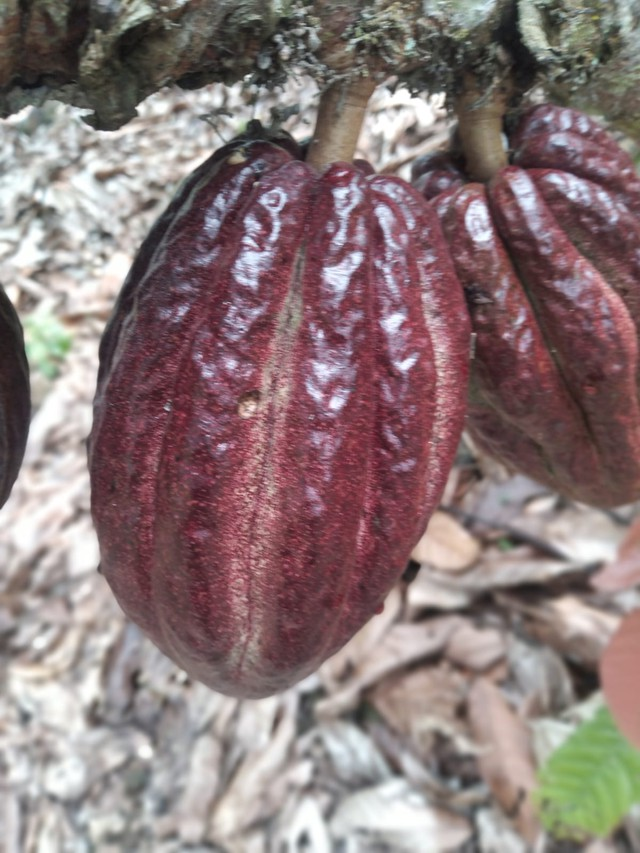Health: (60, 122, 484, 713)
